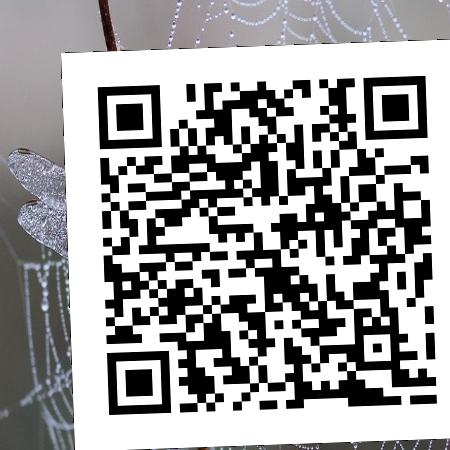qr_code: (61, 50, 449, 438)
